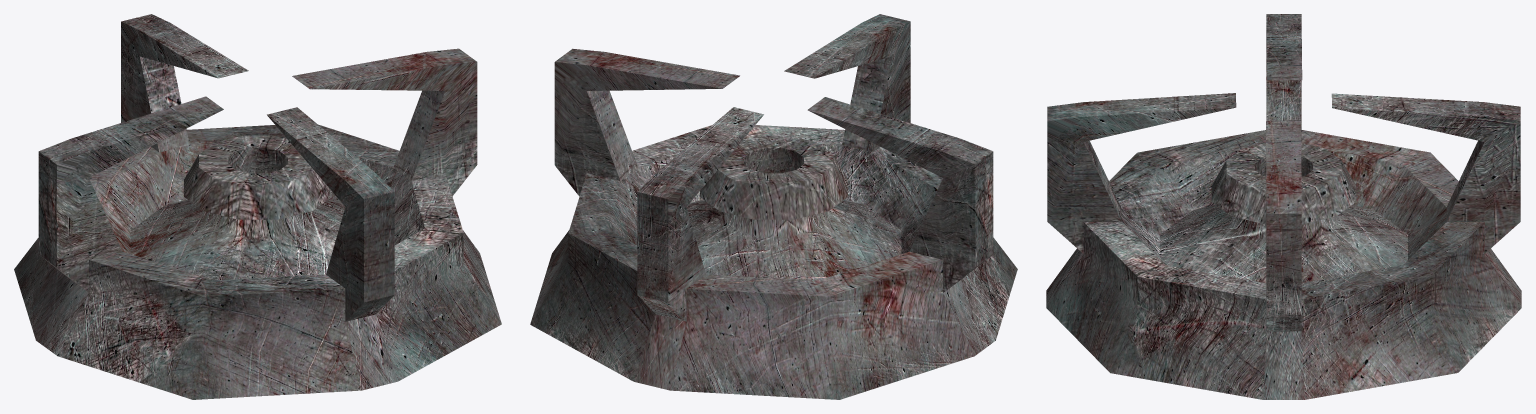
Rendered from hob.FBX.
3 renders of one model, left to right at view 1: azimuth 30°, elevation 25°; view 2: azimuth 150°, elevation 25°; view 3: azimuth 270°, elevation 25°, orthographic. The views are drawn at different scales.
Parts seen in each view (by area): view 1: HobA; view 2: HobA; view 3: HobA.
Boxes of the visible parts, left/top/right/bottom form: HobA: left=14, top=14, right=501, bottom=399; HobA: left=530, top=14, right=1017, bottom=399; HobA: left=1046, top=14, right=1521, bottom=399.
Bounding box in the file's own units: 4.59 × 2.12 × 4.59.
